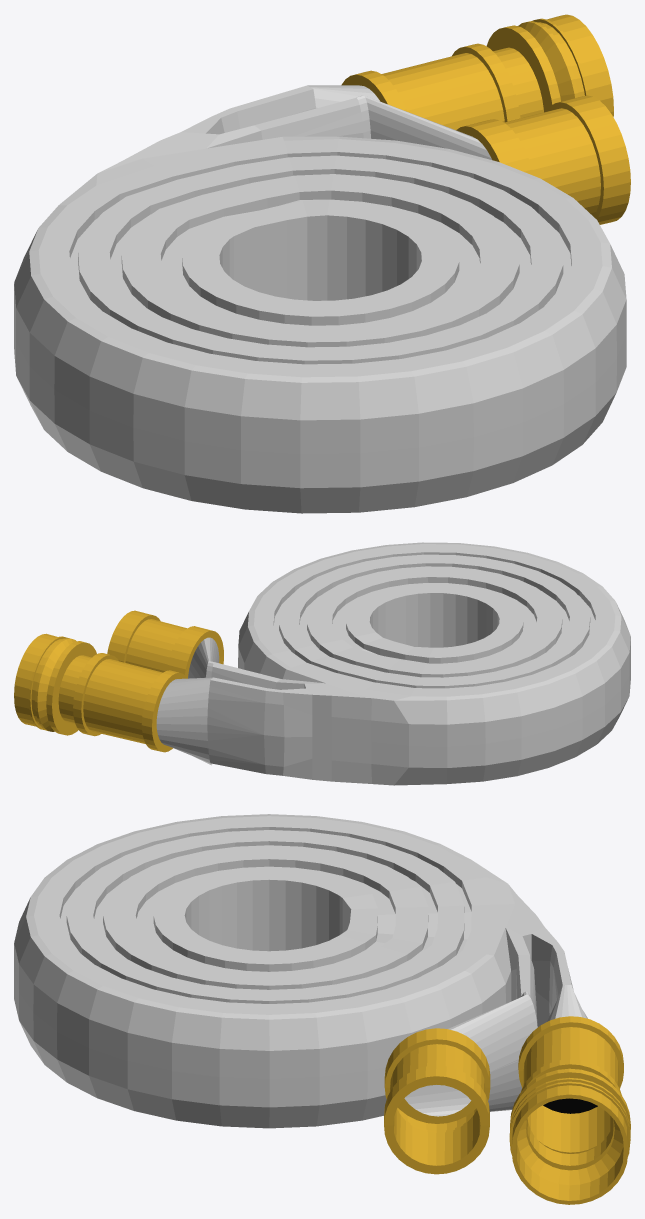
Rendered from hose.fbx.
3 views of the same model, one above another, from view 1: azimuth 30°, elevation 25°; view 2: azimuth 150°, elevation 25°; view 3: azimuth 270°, elevation 25° (orthographic). The views are drawn at different scales.
Parts seen in each view (by area): view 1: Cylinder.003; view 2: Cylinder.003; view 3: Cylinder.003.
Boxes of the visible parts, x1,y1,x2,y2 form: Cylinder.003: (14, 14, 630, 513); Cylinder.003: (14, 542, 630, 785); Cylinder.003: (14, 814, 630, 1204).
Size of the model in its own units: 1055 by 197 by 958.
